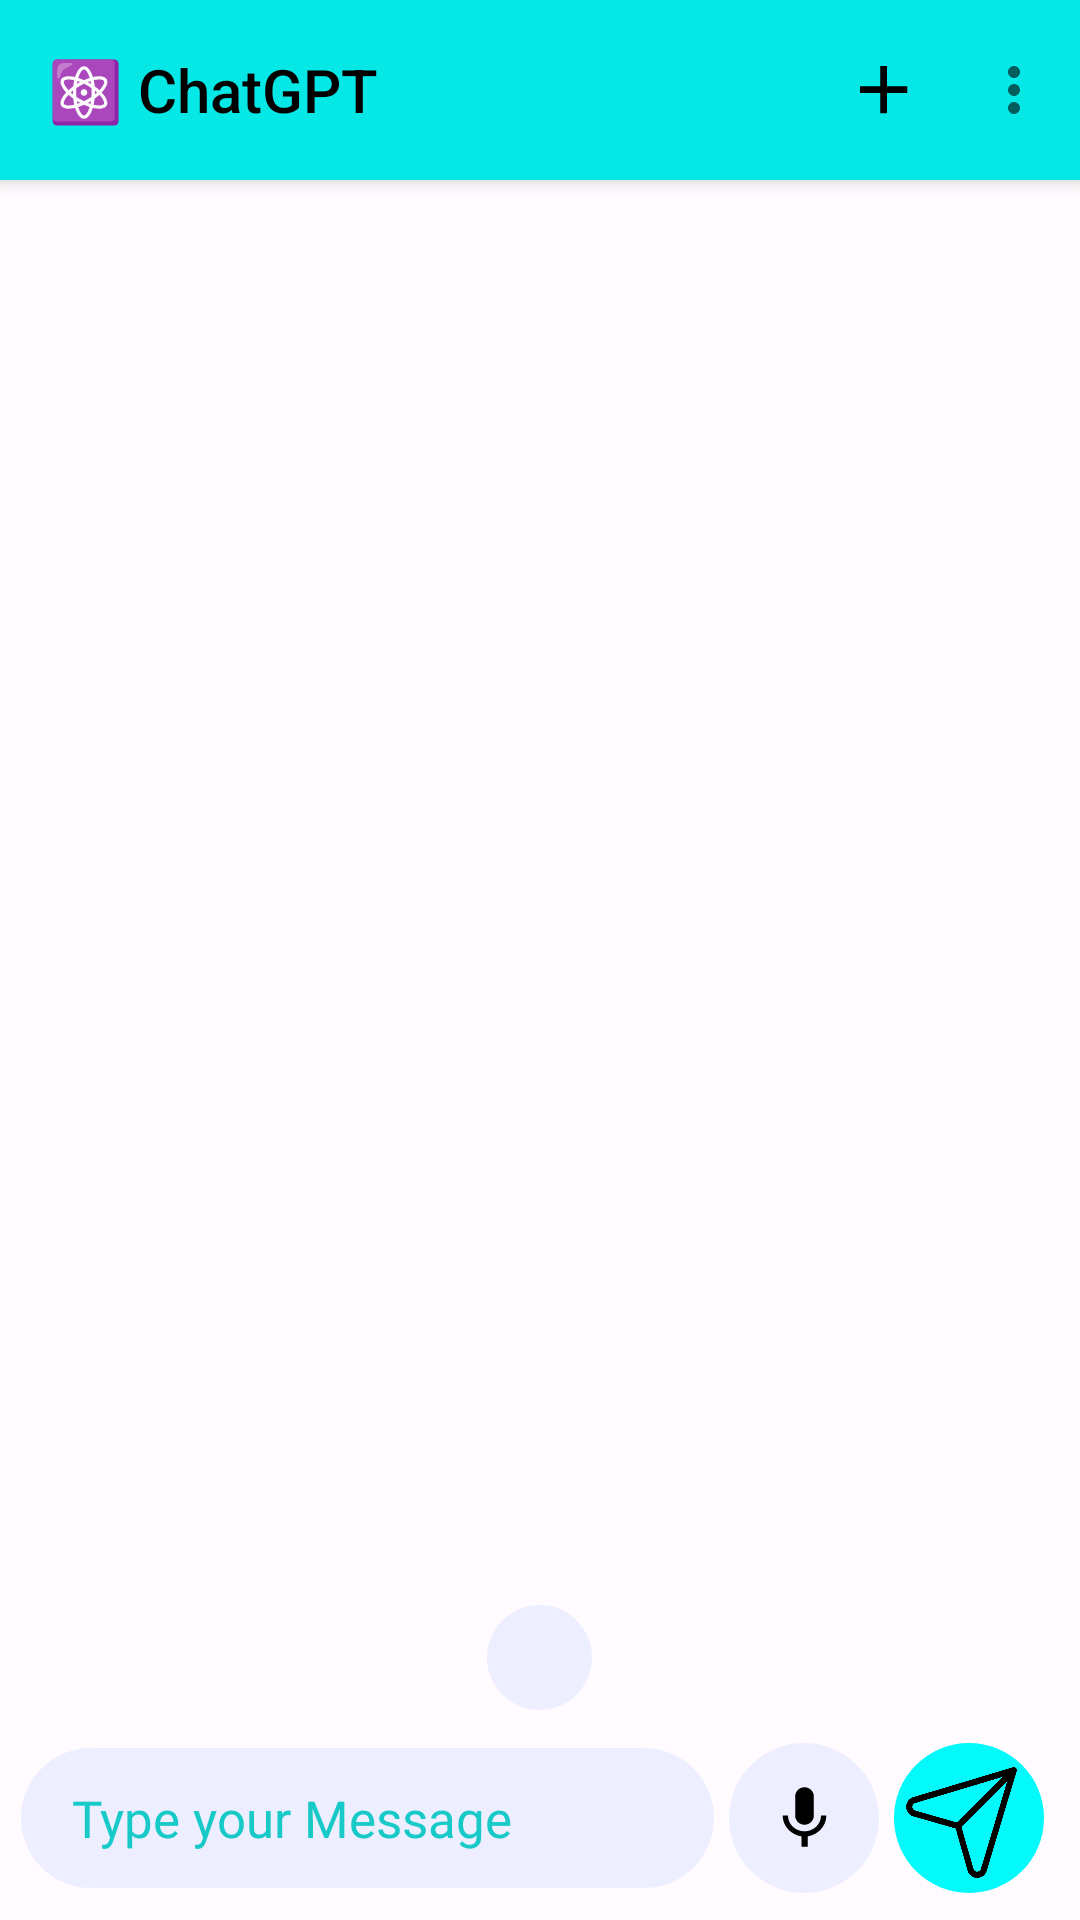

Where icons sit on this 1080px x 1920px app screen, as bbox=(x1, y1, x2, y2):
send: bbox=(894, 1743, 1044, 1893)
voice: bbox=(729, 1743, 879, 1893)
